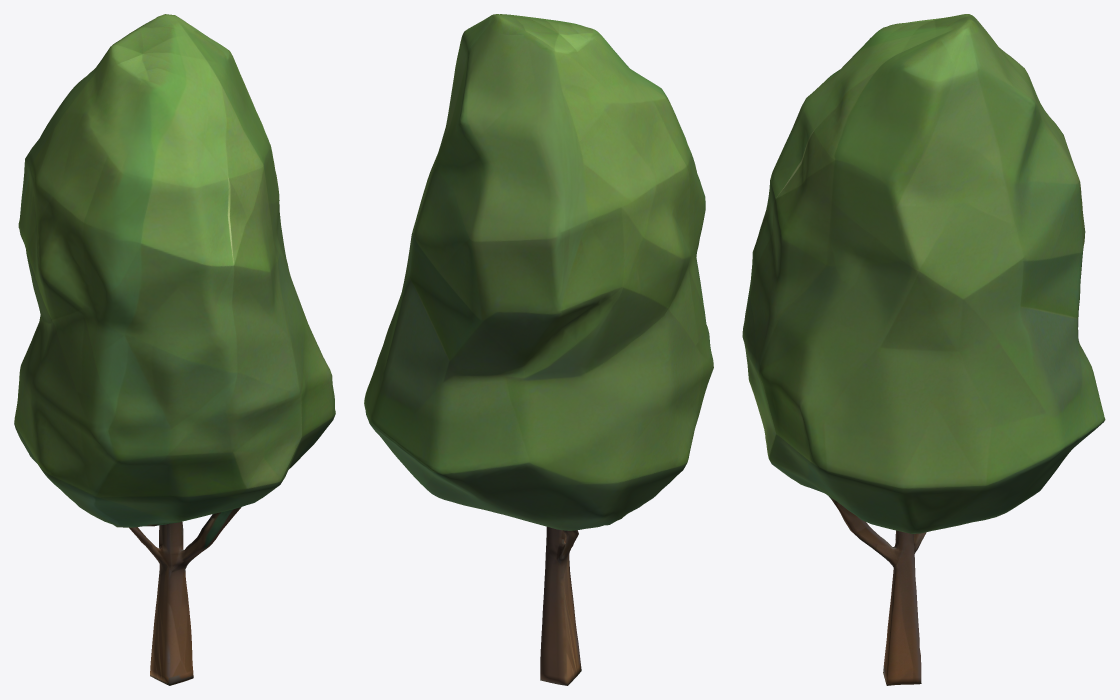
Rendered from Polygonal_Tree_0508015527_texture.fbx.
The picture shows the model from 3 angles, left to right: view 1: azimuth 30°, elevation 25°; view 2: azimuth 150°, elevation 25°; view 3: azimuth 270°, elevation 25°; orthographic projection. The views are drawn at different scales.
Visible parts, largest first — view 1: input; view 2: input; view 3: input.
Boxes of the visible parts, x1,y1,x2,y2 form: input: (14, 14, 335, 685); input: (364, 14, 713, 685); input: (742, 14, 1105, 685).
Size of the model in its own units: 89.72 by 198 by 97.07.
1 material, 1 textured.
